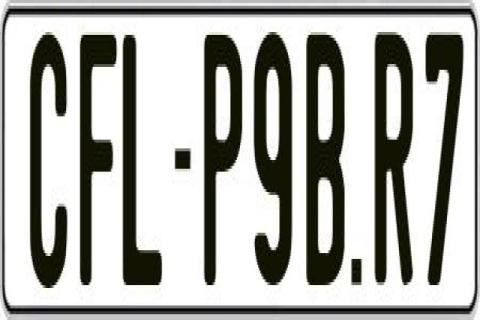0: (250, 32, 294, 296), (424, 29, 462, 285)
B: (303, 26, 343, 291)
C: (27, 35, 67, 294)
F: (80, 32, 122, 300)
L: (122, 35, 164, 297)
P: (202, 26, 243, 288)
R: (374, 24, 418, 294)
